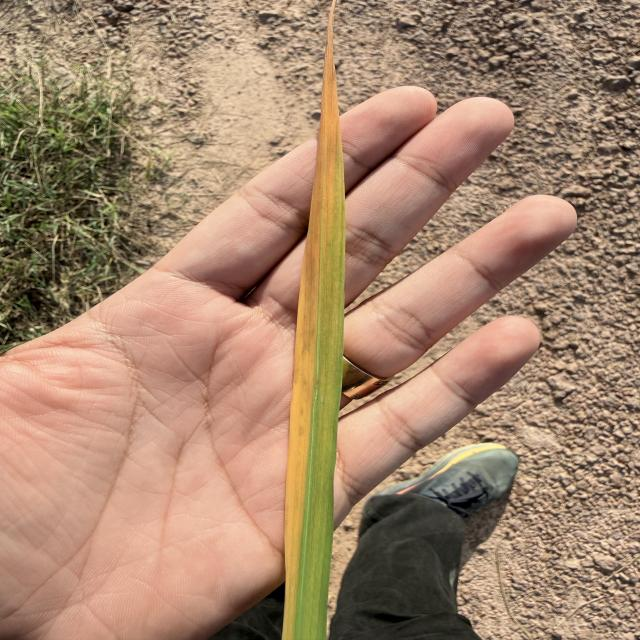Chay bia la: (283, 0, 338, 640)
